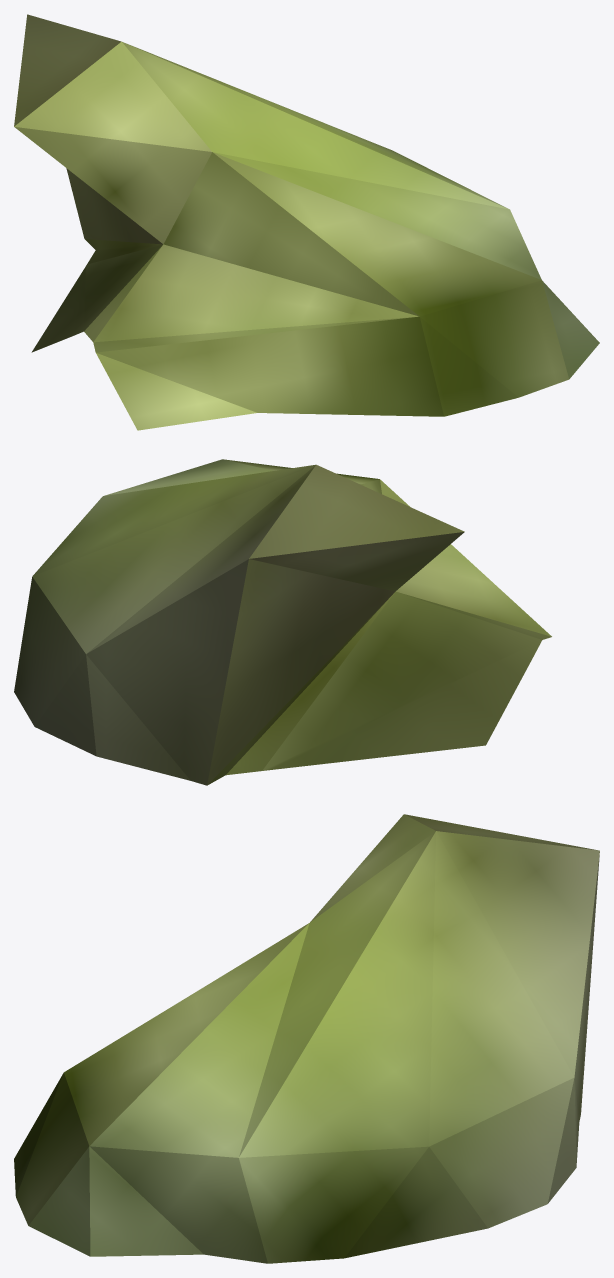
3 renders of one model, top to bottom at view 1: azimuth 30°, elevation 25°; view 2: azimuth 150°, elevation 25°; view 3: azimuth 270°, elevation 25°, orthographic. The views are drawn at different scales.
Bounding box in the file's own units: 0.0747 × 0.0406 × 0.0808.
1 material, 1 textured.
